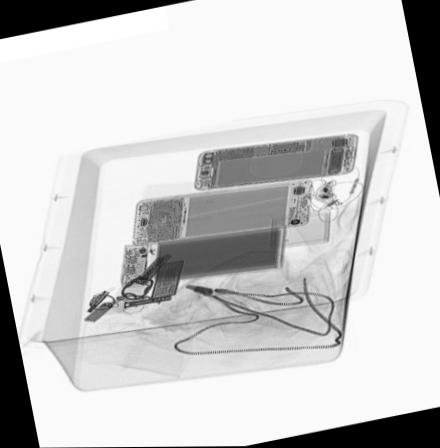Powerbank: (118, 226, 289, 291)
